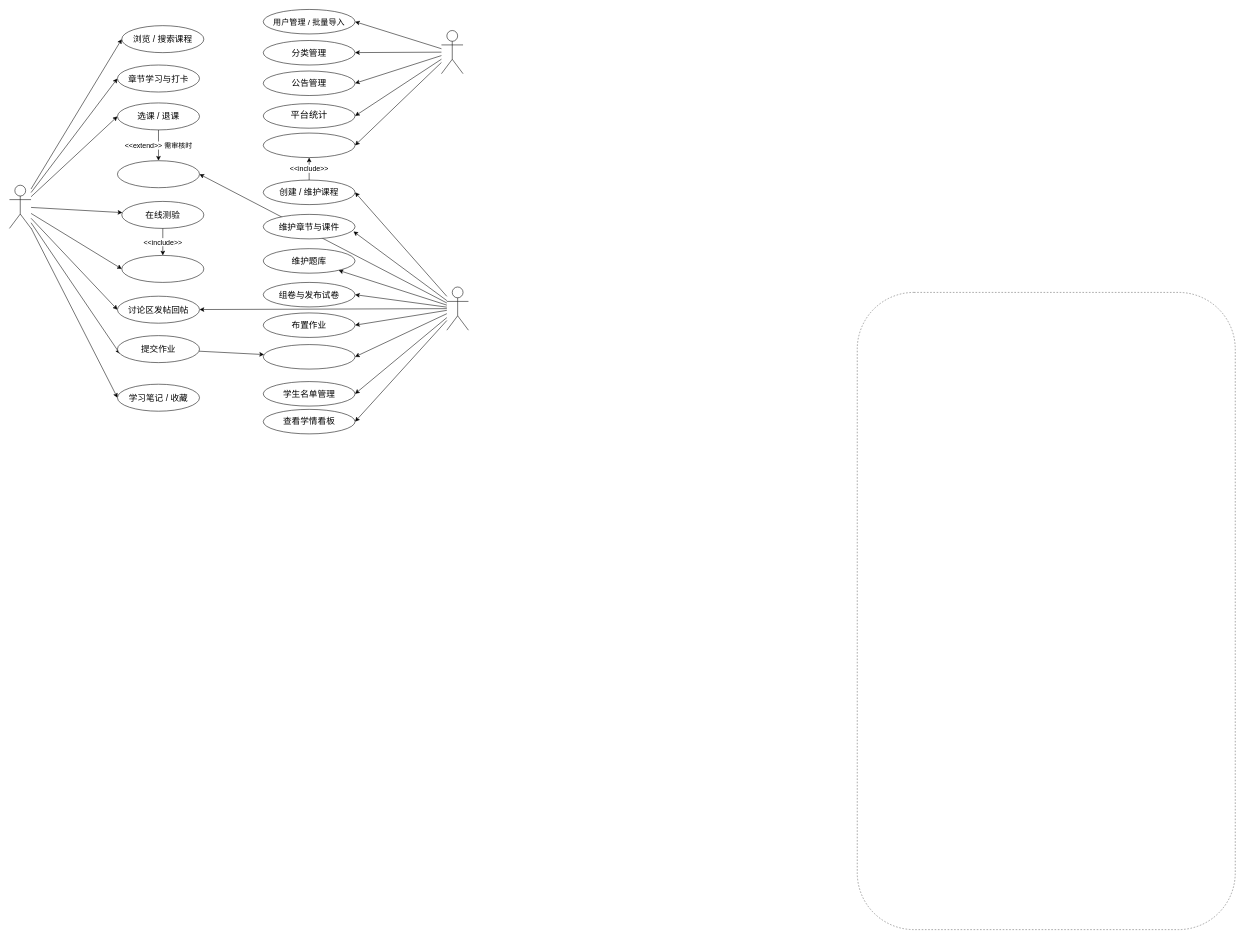
The diagram is 1245 pixels wide and 939 high, and some of its shapes have lost their labels. The shapes that lost their labels are listed below. From the top down, each one's centre as x and y in pixels, then its label:
At pixel 452 52: "管理员".
At pixel 309 145: "课程审核".
At pixel 158 174: "选课审核".
At pixel 20 206: "学生".
At pixel 162 268: "查看成绩与解析".
At pixel 457 308: "教师".
At pixel 309 356: "批阅作业与主观题".
At pixel 1046 611: "在线学习平台".
